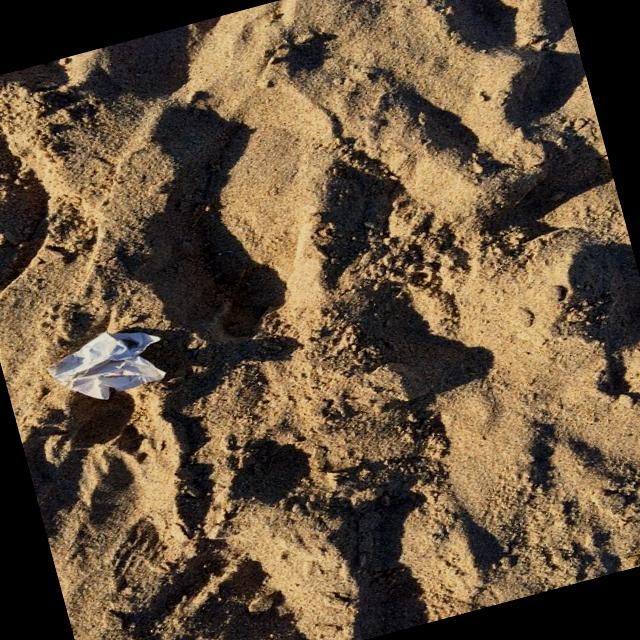Recycle: (42, 316, 176, 414)
